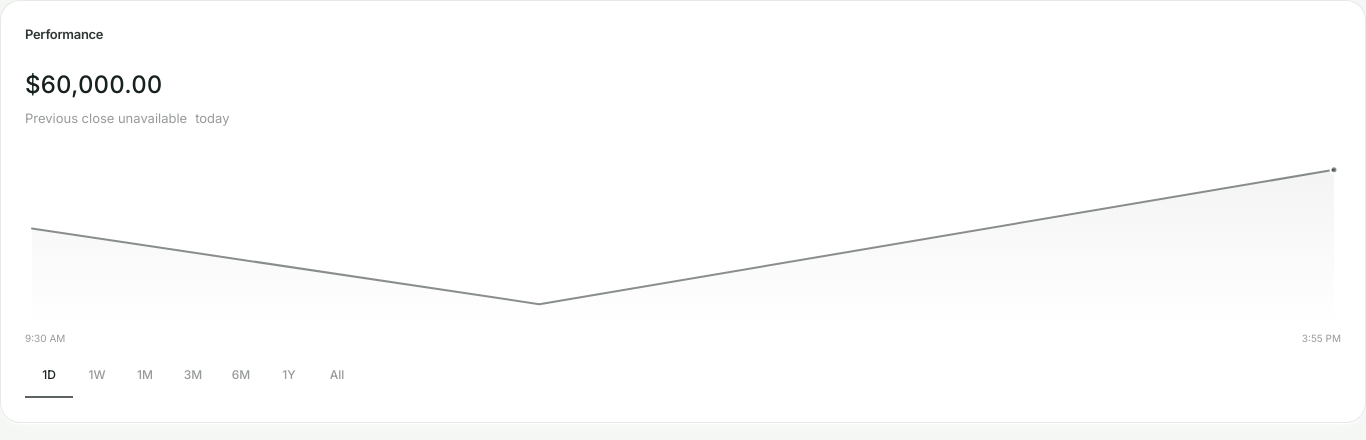
Scenario: preserves the 1W comparison with the first range point
Check: the slider is shown, box [25,146,1341,326]
Click the button "1W" at {"x": 97, "y": 376}, box [73,354,121,398]
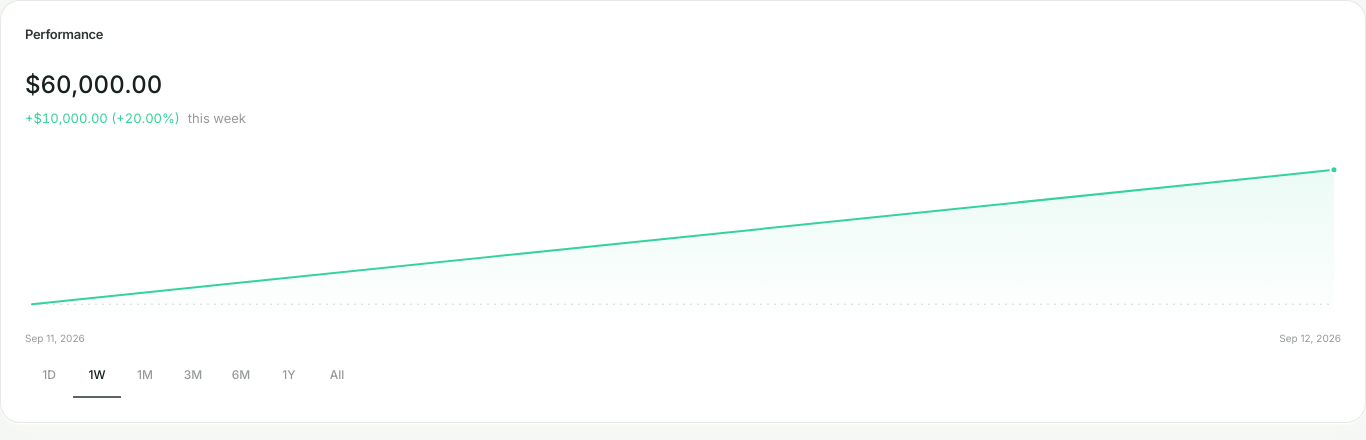
Check: the text "+$10,000.00 (+20.00%)" is shown, box [25,108,180,128]
Press Home in the slider, box [25,146,1341,326]
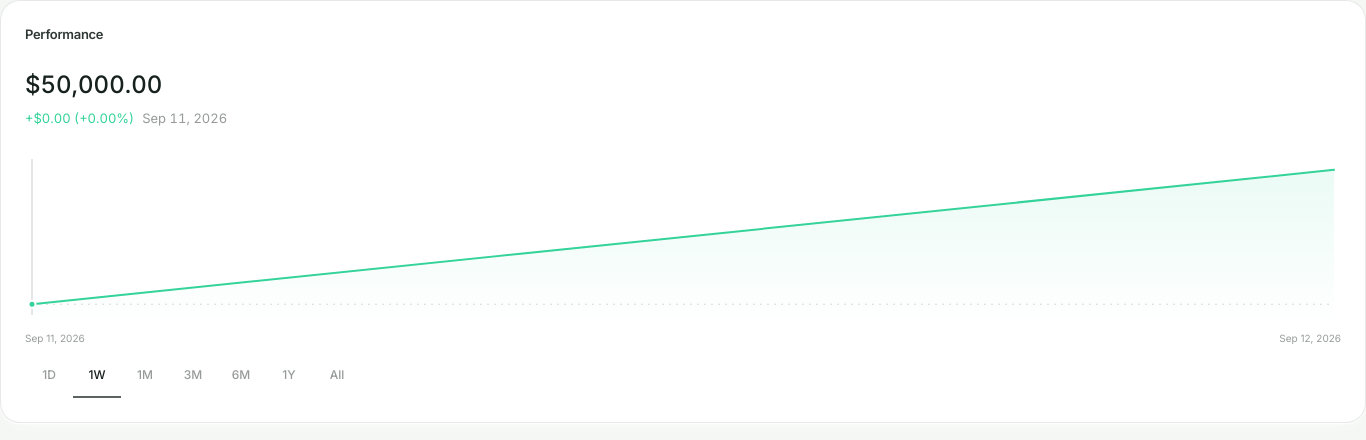
Check: the text "+$0.00 (+0.00%)" is shown, box [25,108,134,128]
